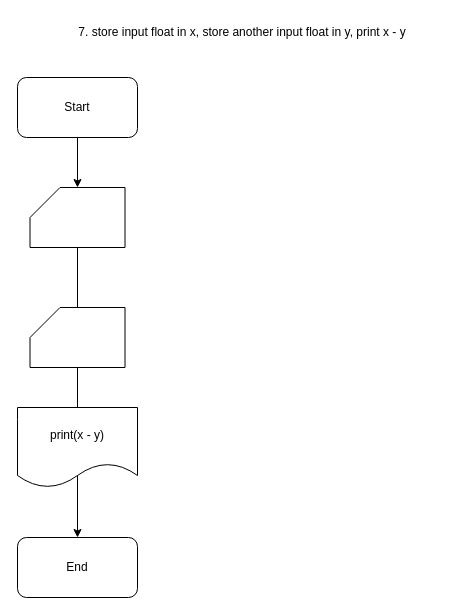
This 455x615 diagram has some shape labels left out. The centre of each missing label's shape, as x and y in pixels:
x: float "what is x?": the point at 77,217
y: float "what is y?": the point at 77,337
